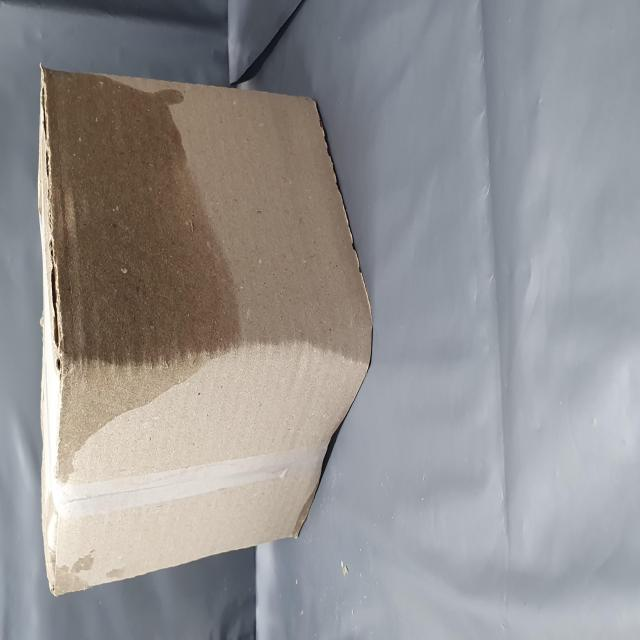wet: (93, 81, 316, 410)
